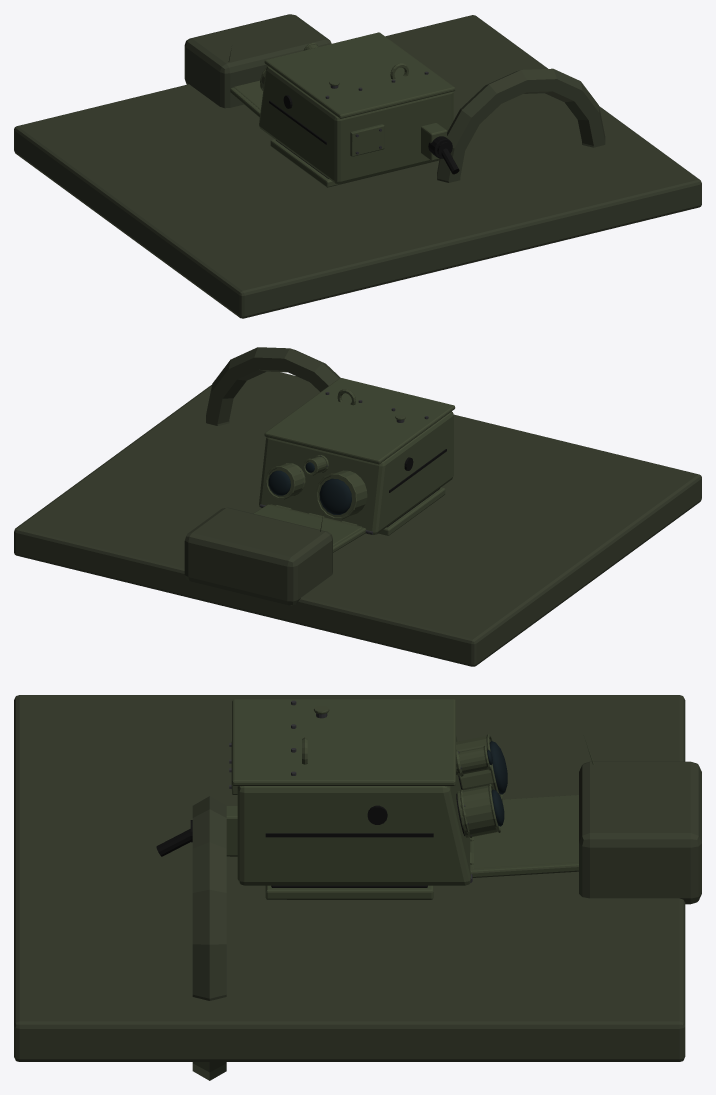
Rendered from lrf down.obj.
The picture shows the model from 3 angles, top to bottom: view 1: azimuth 30°, elevation 25°; view 2: azimuth 150°, elevation 25°; view 3: azimuth 270°, elevation 25°; orthographic projection. The views are drawn at different scales.
Parts seen in each view (by area): view 1: roof, housing, mantlet, hatchring, dark; view 2: roof, housing, mantlet, hatchring, lens; view 3: roof, housing, mantlet, hatchring, dark, lens.
Part boxes in pixels (x1=…): roof: x1=14, y1=15, x2=701, y2=318; housing: x1=228, y1=32, x2=454, y2=187; mantlet: x1=184, y1=14, x2=331, y2=108; hatchring: x1=437, y1=68, x2=605, y2=182; dark: x1=276, y1=95, x2=459, y2=178; roof: x1=14, y1=371, x2=701, y2=666; housing: x1=253, y1=378, x2=455, y2=552; mantlet: x1=184, y1=507, x2=332, y2=605; hatchring: x1=206, y1=347, x2=340, y2=425; lens: x1=268, y1=462, x2=351, y2=514; roof: x1=14, y1=695, x2=685, y2=1061; housing: x1=226, y1=699, x2=594, y2=899; mantlet: x1=579, y1=761, x2=701, y2=904; hatchring: x1=192, y1=796, x2=226, y2=1080; dark: x1=156, y1=774, x2=464, y2=887; lens: x1=487, y1=741, x2=507, y2=826.
Bounding box in the file's own units: 1.4 × 0.523 × 1.23.
